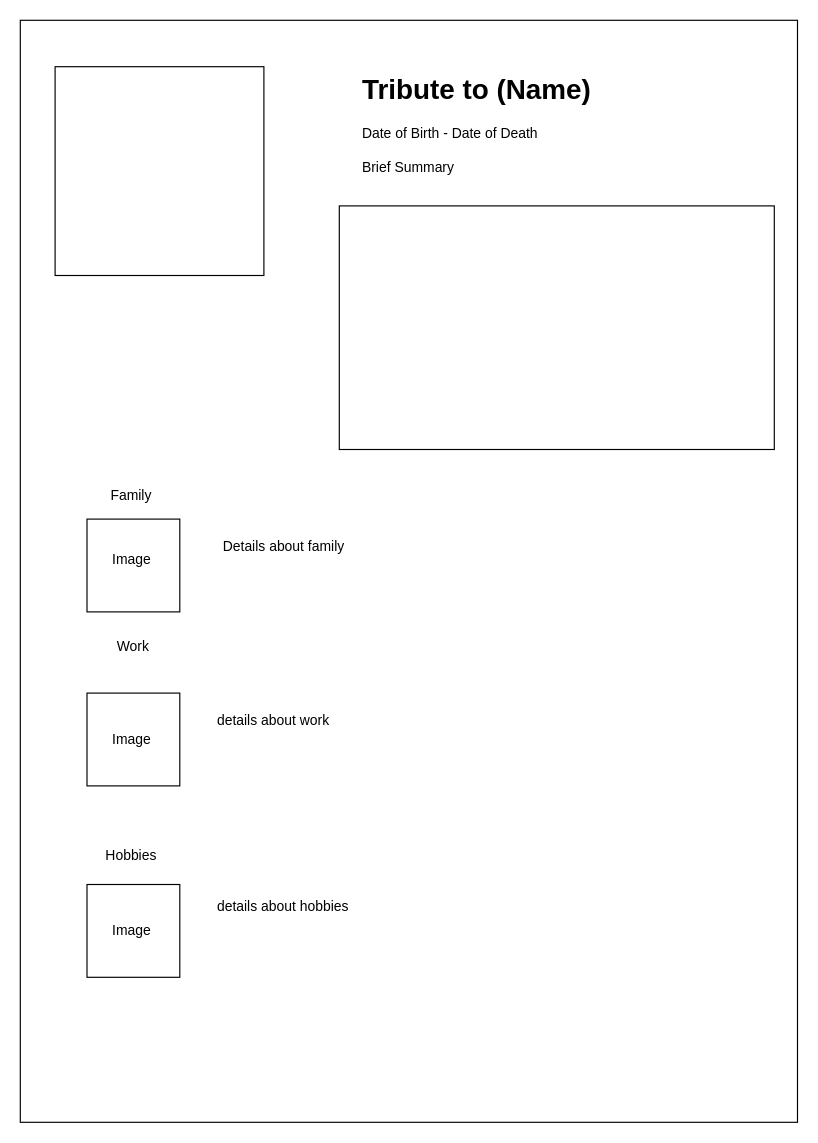
Some shapes in this 818 by 1143 pixel diagram are drawn without their labels. The centre of each missing label's shape, as x and y in pixels:
List of achievements: the point at 556,327
Main Photo: the point at 159,171
